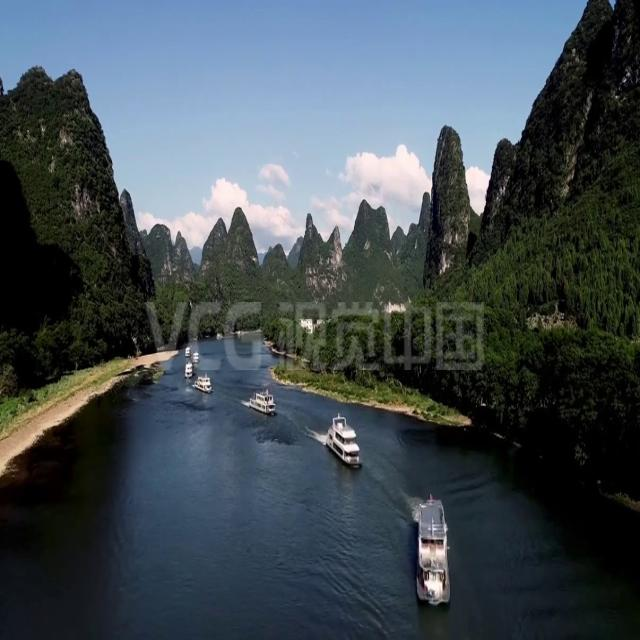passenger ship: (413, 486, 452, 605), (324, 409, 360, 472), (247, 387, 276, 415), (193, 374, 215, 391), (184, 361, 195, 379), (192, 352, 200, 362), (186, 344, 190, 354)
